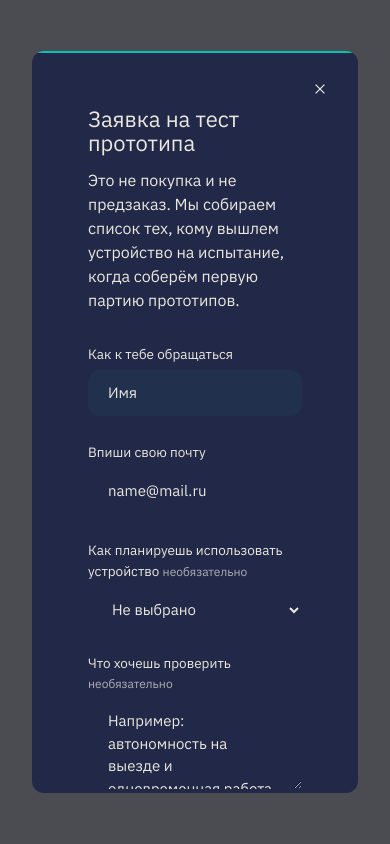
Test case: RequestModal › «Попробовать снова» после ошибки отправляет те же данные
In the field with id "fName": (195, 393) 88,370 -> 302,416, type "Анна"
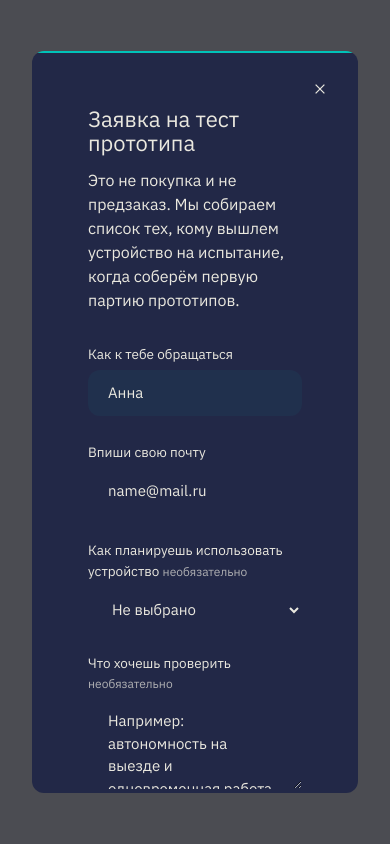
In the field with id "fMail": (195, 491) 88,468 -> 302,514, type "anna@mail.ru"
(page scrolled)
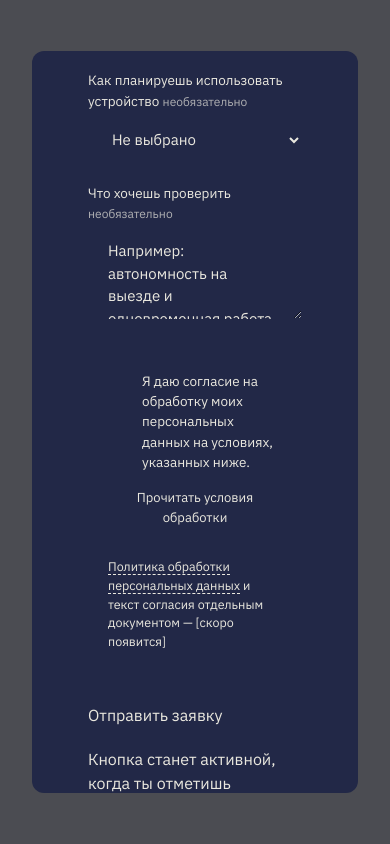
Click the checkbox with id "fConsent": (195, 422) 108,371 -> 282,472
(page scrolled)
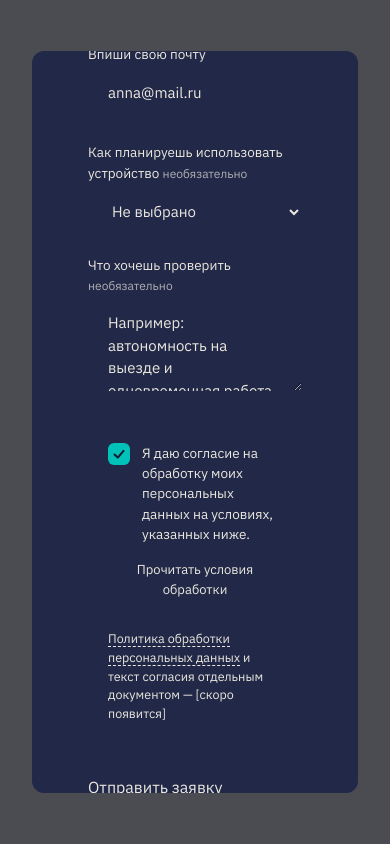
Submit the form
Wait 400 ms
(page scrolled)
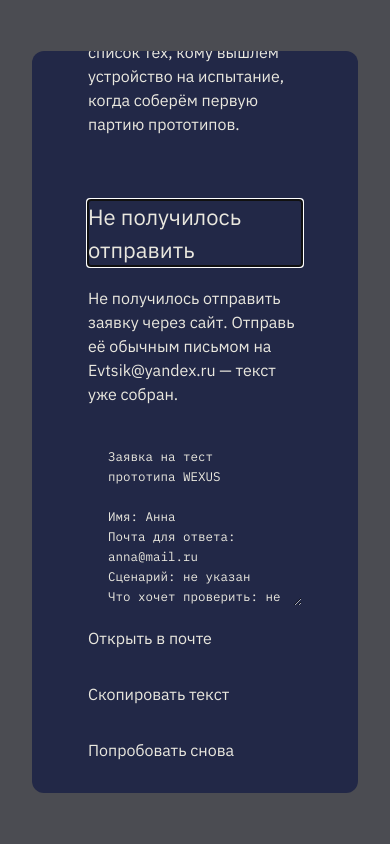
Result: the heading with id "doneTitle" reads "Не получилось отправить" at 88,202 -> 241,264
Click the button with id "retrySend": (161, 750) 88,738 -> 234,762
Wait 400 ms
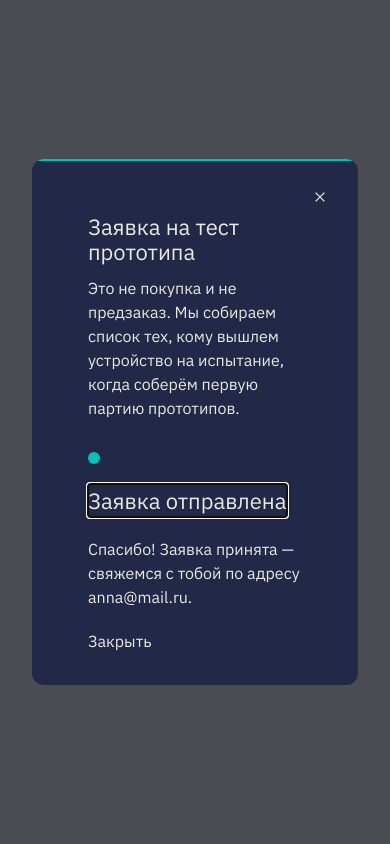
Result: the heading with id "doneTitle" reads "Заявка отправлена" at 88,486 -> 287,515
